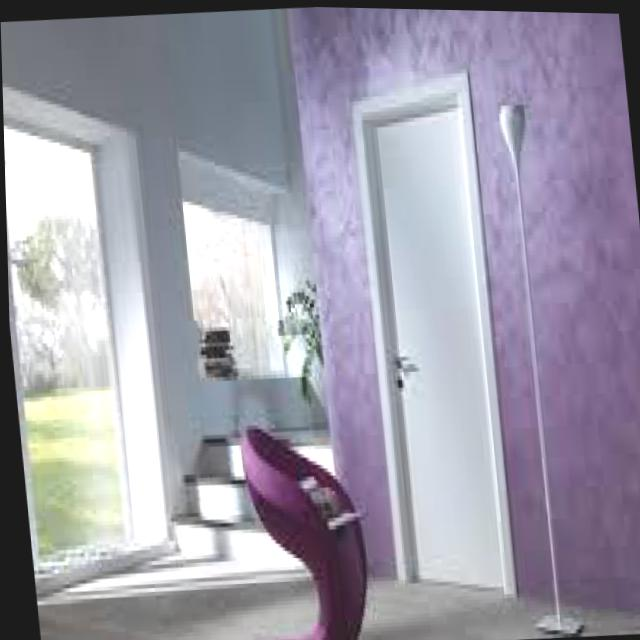close: (338, 52, 528, 607)
